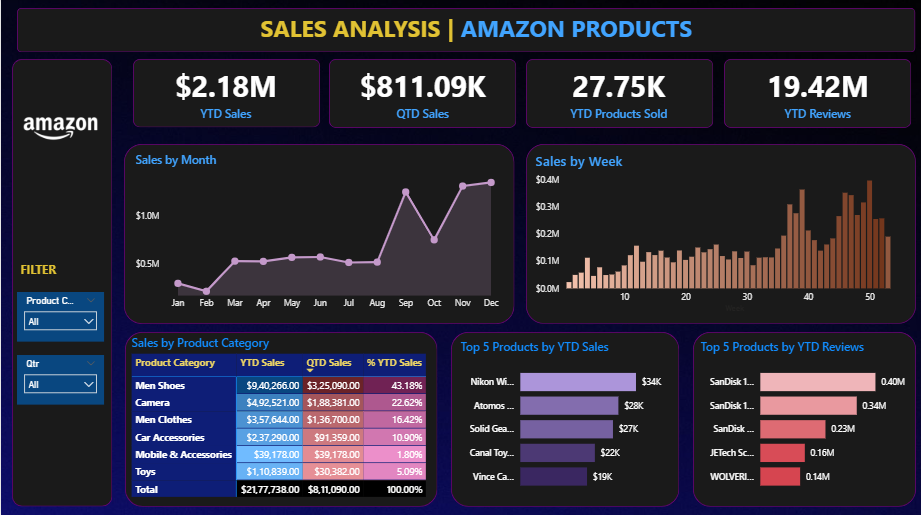

What the dashboard file says about the page in this screenshot:
{"tool":"powerbi","page":{"name":"Page 1","canvas":[1280,720],"ordinal":0},"visuals":[{"type":"shape","box":[22.9,12.9,1248.6,61.4],"z":0},{"type":"textbox","box":[355.7,12.9,765.7,61.4],"z":1000},{"type":"shape","box":[15.1,84,139.4,622],"z":2000},{"type":"shape","box":[183.1,84,260,95],"z":3000},{"type":"shape","box":[455.8,84,260.4,95.7],"z":4000},{"type":"card","fields":{"Values":["Amazon_Data.YTD Sales"]},"box":[181.4,84,260.4,95.7],"z":5000},{"type":"card","fields":{"Values":["Amazon_Data.QTD Sales"]},"box":[455.2,84,260.4,95.7],"z":6000},{"type":"shape","box":[730.1,84,260.4,95.7],"z":7000},{"type":"shape","box":[1004.5,84,260.4,95.7],"z":8000},{"type":"card","fields":{"Values":["Amazon_Data.YTD Products Sold"]},"box":[729,84,260.4,95.7],"z":9000},{"type":"card","fields":{"Values":["Amazon_Data.YTD Reviews"]},"box":[1004.5,84,260.4,95.7],"z":10000},{"type":"shape","box":[171,201.6,542.6,250.3],"z":11000},{"type":"areaChart","title":"Sales by Month ","fields":{"Category":["Date Table.Month Name"],"Y":["Sum(Amazon_Data.Price(Dollar))"]},"box":[181.4,212.9,520,228.6],"z":12000},{"type":"shape","box":[730,202,542,250],"z":13000},{"type":"columnChart","title":"Sales by Week","fields":{"Category":["Date Table.Week"],"Y":["Sum(Amazon_Data.Price(Dollar))"]},"box":[738.6,212.9,524.3,228.6],"z":14000},{"type":"shape","box":[173,462.9,434.3,242.9],"z":15000},{"type":"pivotTable","title":"Sales by Product Category","fields":{"Rows":["Amazon_Data.Product Category"],"Values":["Amazon_Data.YTD Sales1","Amazon_Data.QTD Sales","Amazon_Data.YTD Sales"]},"box":[177.1,467.1,421.4,232.9],"z":16000},{"type":"shape","box":[625.8,462.9,317.1,242.9],"z":17000},{"type":"shape","box":[961.4,462.9,310,242.9],"z":18000},{"type":"clusteredBarChart","title":"Top 5 Products by YTD Sales","fields":{"Category":["Amazon_Data.Product Description"],"Y":["Amazon_Data.YTD Sales"]},"box":[634.3,472.9,300,222.9],"z":19000},{"type":"clusteredBarChart","title":"Top 5 Products by YTD Reviews","fields":{"Category":["Amazon_Data.Product Description"],"Y":["Amazon_Data.YTD Reviews"]},"box":[967.1,472.9,300,222.9],"z":19001},{"type":"slicer","fields":{"Values":["Amazon_Data.Product Category"]},"box":[22.9,407.1,121.4,68.6],"z":19002},{"type":"slicer","fields":{"Values":["Date Table.Qtr"]},"box":[22.9,494.3,121.4,68.6],"z":19003},{"type":"textbox","box":[22.9,360,75.7,34.3],"z":19004},{"type":"image","box":[22.9,145.7,121.4,67.1],"z":19006}]}

Visuals, with their boxes in screenshot pixels (x1, y1, x2, y2), scaled from the page's 1280x720 canvas onto the 921x515 screenshot:
shape: box(16, 9, 915, 53)
textbox: box(256, 9, 807, 53)
shape: box(11, 60, 111, 505)
shape: box(132, 60, 319, 128)
shape: box(328, 60, 515, 129)
card - Amazon_Data.YTD Sales: box(131, 60, 318, 129)
card - Amazon_Data.QTD Sales: box(328, 60, 515, 129)
shape: box(525, 60, 713, 129)
shape: box(723, 60, 910, 129)
card - Amazon_Data.YTD Products Sold: box(525, 60, 712, 129)
card - Amazon_Data.YTD Reviews: box(723, 60, 910, 129)
shape: box(123, 144, 513, 323)
"Sales by Month " areaChart: box(131, 152, 505, 316)
shape: box(525, 144, 915, 323)
"Sales by Week" columnChart: box(531, 152, 909, 316)
shape: box(124, 331, 437, 505)
"Sales by Product Category" pivotTable: box(127, 334, 431, 501)
shape: box(450, 331, 678, 505)
shape: box(692, 331, 915, 505)
"Top 5 Products by YTD Sales" clusteredBarChart: box(456, 338, 672, 498)
"Top 5 Products by YTD Reviews" clusteredBarChart: box(696, 338, 912, 498)
slicer - Amazon_Data.Product Category: box(16, 291, 104, 340)
slicer - Date Table.Qtr: box(16, 354, 104, 403)
textbox: box(16, 258, 71, 282)
image: box(16, 104, 104, 152)
